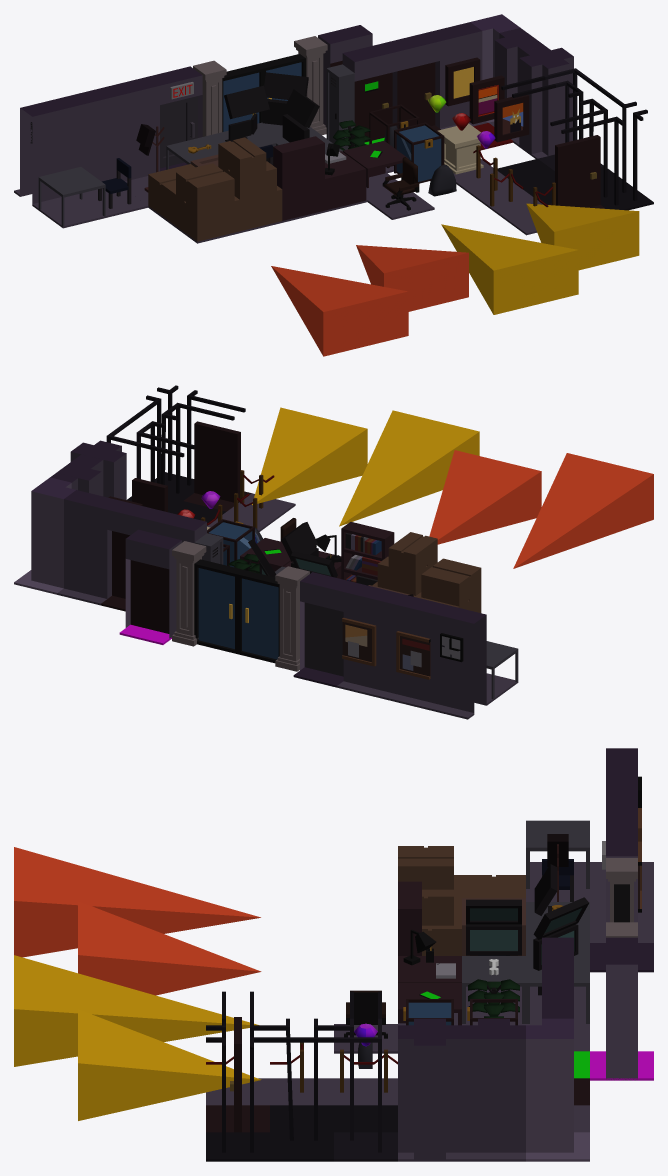
The model's file is building-tiles.glb.
3 renders of one model, top to bottom at view 1: azimuth 30°, elevation 25°; view 2: azimuth 150°, elevation 25°; view 3: azimuth 270°, elevation 25°, orthographic. The views are drawn at different scales.
Visible parts, largest first — view 1: flashlightBeamAlert3x4_MSH, flashlightBeam3x4_MSH, flashlightBeam3x3_MSH, flashlightBeamAlert3x3_MSH, wall_clock_MSH, 4-corner_purple_MSH, storage_boxes2_MSH, storage_boxes3_MSH, wall_bulletin1_MSH, wall_bulletin2_MSH, door_purple_MSH, office_bookshelf_MSH (+40 smaller); view 2: flashlightBeamAlert3x4_MSH, flashlightBeam3x4_MSH, flashlightBeamAlert3x3_MSH, flashlightBeam3x3_MSH, wall_clock_MSH, door_keycardPink_MSH, wall_purple_MSH, wall_bulletin2_MSH, wall_bulletin1_MSH, door_backExit_MSH, door_skeleton_MSH, 2-corner_purple_MSH (+27 smaller); view 3: flashlightBeamAlert3x4_MSH, flashlightBeam3x4_MSH, flashlightBeam3x3_MSH, 4-corner_purple_MSH, 3-corner_purple_MSH, flashlightBeamAlert3x3_MSH, 2-corner_purple_MSH, door_keycardPink_MSH, security_monitor1_MSH, storage_boxes3_MSH, security_monitor2_MSH, 3-corner_skeleton_MSH (+29 smaller).
Part boxes in pixels (bbox=[...]): flashlightBeamAlert3x4_MSH: bbox=[271, 266, 408, 356]; flashlightBeam3x4_MSH: bbox=[441, 224, 578, 314]; flashlightBeam3x3_MSH: bbox=[526, 203, 639, 270]; flashlightBeamAlert3x3_MSH: bbox=[356, 245, 468, 311]; wall_clock_MSH: bbox=[14, 97, 79, 210]; 4-corner_purple_MSH: bbox=[513, 46, 573, 158]; storage_boxes2_MSH: bbox=[172, 163, 239, 243]; storage_boxes3_MSH: bbox=[218, 137, 282, 232]; wall_bulletin1_MSH: bbox=[63, 87, 117, 197]; wall_bulletin2_MSH: bbox=[105, 76, 159, 185]; door_purple_MSH: bbox=[385, 32, 440, 130]; office_bookshelf_MSH: bbox=[273, 136, 324, 222]; flashlightBeamAlert3x4_MSH: bbox=[513, 453, 653, 568]; flashlightBeam3x4_MSH: bbox=[339, 410, 479, 526]; flashlightBeamAlert3x3_MSH: bbox=[429, 450, 541, 544]; flashlightBeam3x3_MSH: bbox=[252, 407, 367, 505]; wall_clock_MSH: bbox=[424, 604, 492, 719]; door_keycardPink_MSH: bbox=[119, 529, 181, 644]; wall_purple_MSH: bbox=[57, 490, 119, 605]; wall_bulletin2_MSH: bbox=[337, 583, 399, 698]; wall_bulletin1_MSH: bbox=[380, 593, 442, 708]; door_backExit_MSH: bbox=[293, 572, 355, 687]; door_skeleton_MSH: bbox=[184, 398, 251, 511]; 2-corner_purple_MSH: bbox=[14, 477, 75, 594]; flashlightBeamAlert3x4_MSH: bbox=[14, 847, 260, 957]; flashlightBeam3x4_MSH: bbox=[14, 955, 258, 1066]; flashlightBeam3x3_MSH: bbox=[78, 1009, 261, 1120]; 4-corner_purple_MSH: bbox=[398, 1018, 461, 1161]; 3-corner_purple_MSH: bbox=[462, 1018, 525, 1161]; flashlightBeamAlert3x3_MSH: bbox=[78, 901, 261, 995]; 2-corner_purple_MSH: bbox=[526, 1018, 589, 1161]; door_keycardPink_MSH: bbox=[590, 937, 653, 1080]; security_monitor1_MSH: bbox=[462, 899, 525, 1023]; storage_boxes3_MSH: bbox=[398, 849, 461, 955]; security_monitor2_MSH: bbox=[526, 897, 589, 1023]; 3-corner_skeleton_MSH: bbox=[270, 1018, 333, 1161].
Bounding box in the file's own units: 11 × 2 × 10.
